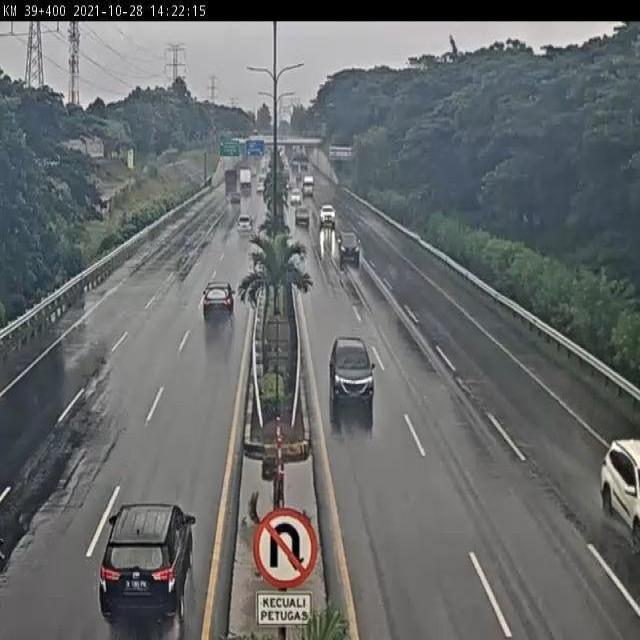car: (100, 503, 197, 624), (328, 335, 377, 411), (201, 280, 236, 325), (336, 229, 364, 264), (233, 218, 254, 242)
